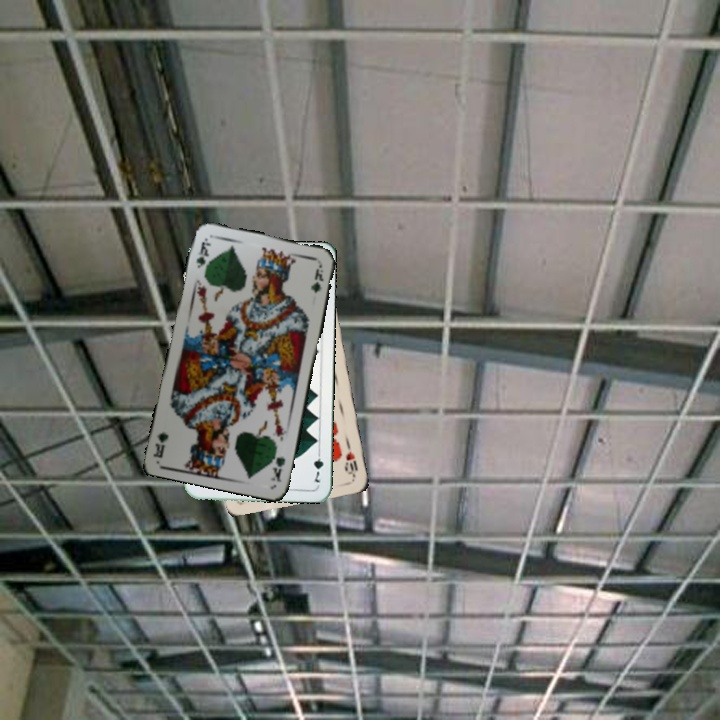G7: (309, 446, 326, 485)
GK: (192, 235, 213, 277), (267, 444, 288, 484)
H10: (342, 439, 360, 479)
